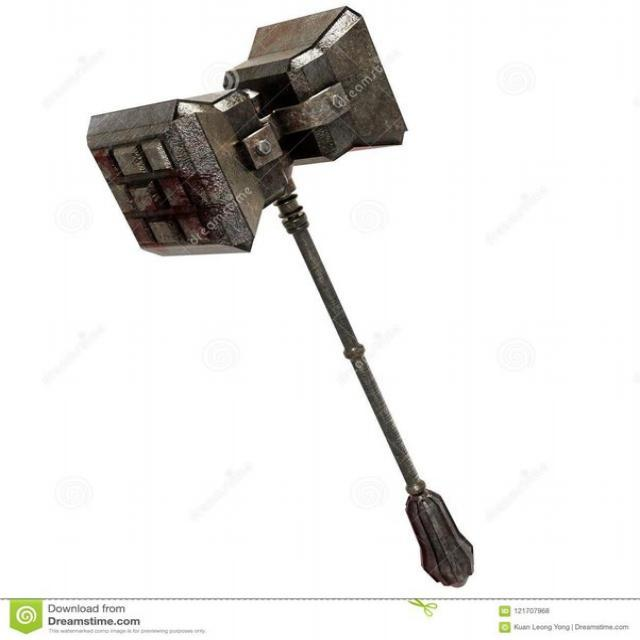war hammer: (84, 5, 477, 591)
